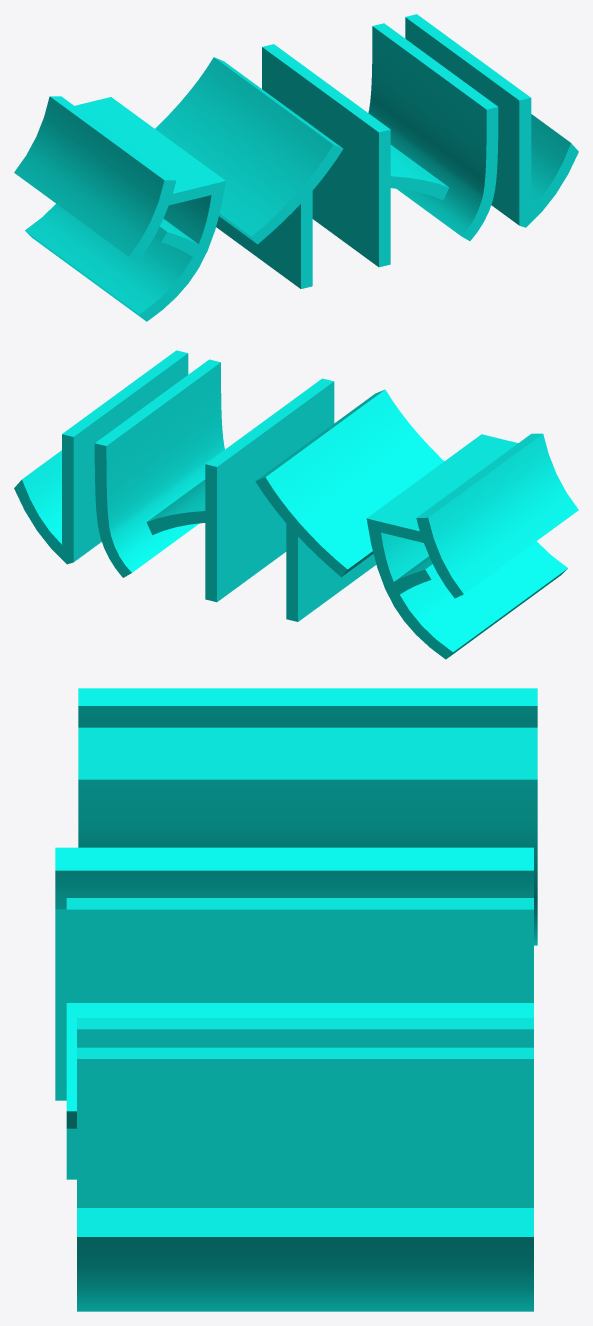
The model's file is title.fbx.
The picture shows the model from 3 angles, top to bottom: view 1: azimuth 30°, elevation 25°; view 2: azimuth 150°, elevation 25°; view 3: azimuth 270°, elevation 25°; orthographic projection. The views are drawn at different scales.
Visible parts, largest first — view 1: typeMesh1; view 2: typeMesh1; view 3: typeMesh1.
Part boxes in pixels (x1,y1,x2,y2): typeMesh1: (14, 14, 578, 321); typeMesh1: (14, 350, 578, 659); typeMesh1: (55, 688, 537, 1311).
Bounding box in the file's own units: 1.9 × 0.5539 × 0.8817.
